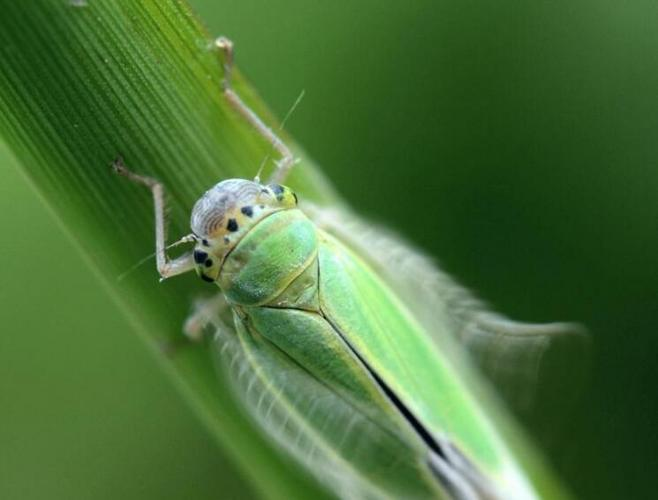Cicadellidae: (109, 159, 542, 500)
